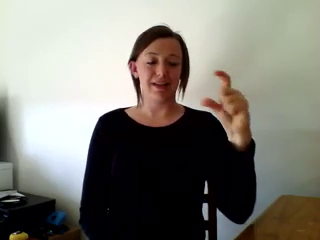C: (200, 63, 260, 140)
